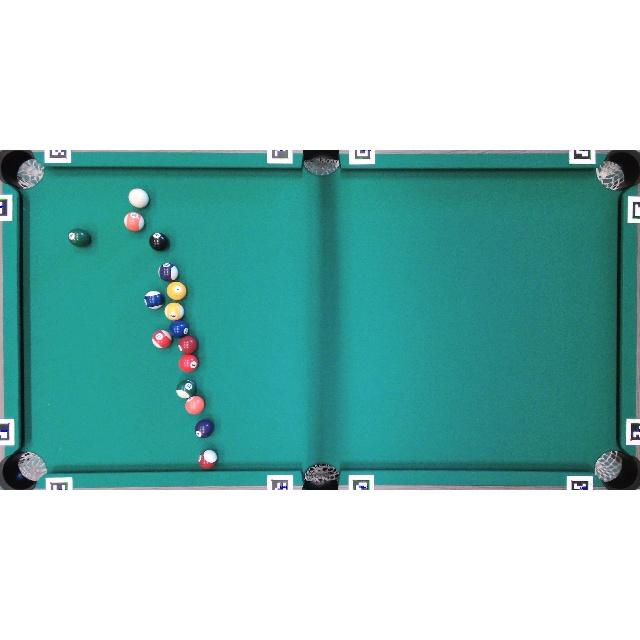cue ball: (128, 188, 149, 208)
other: (68, 228, 91, 247), (124, 211, 144, 232), (184, 395, 204, 415), (176, 379, 196, 399), (149, 232, 169, 251), (152, 330, 172, 349), (144, 290, 164, 309), (158, 262, 179, 280), (194, 419, 213, 438), (165, 302, 184, 321), (178, 336, 198, 354), (179, 354, 199, 372), (166, 282, 186, 300), (170, 320, 189, 338), (199, 449, 217, 468)
